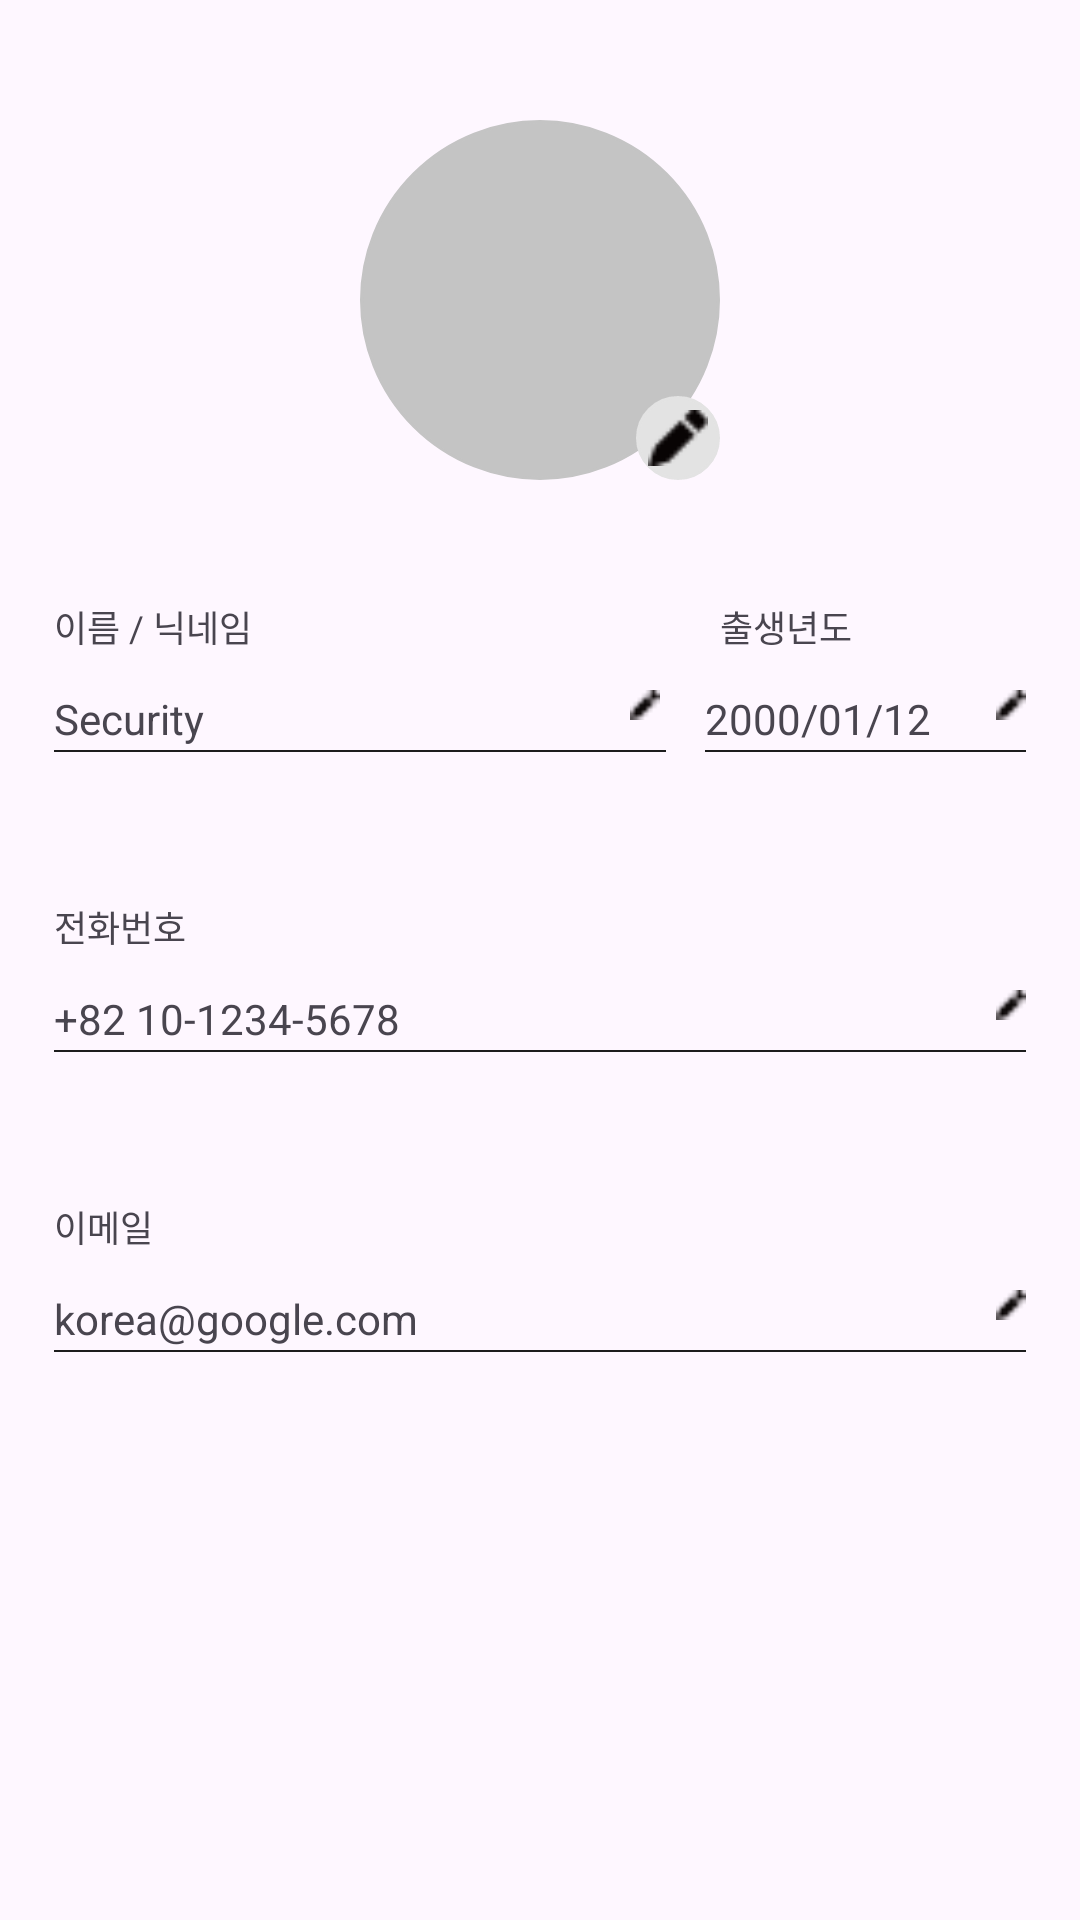

Named icons in this screenshot (1080px x 1920px) and their bounding boxes, box(x1, y1, x2, y2):
minipencil: box(630, 690, 660, 720), box(996, 690, 1026, 720), box(996, 990, 1026, 1020), box(996, 1290, 1026, 1320)
